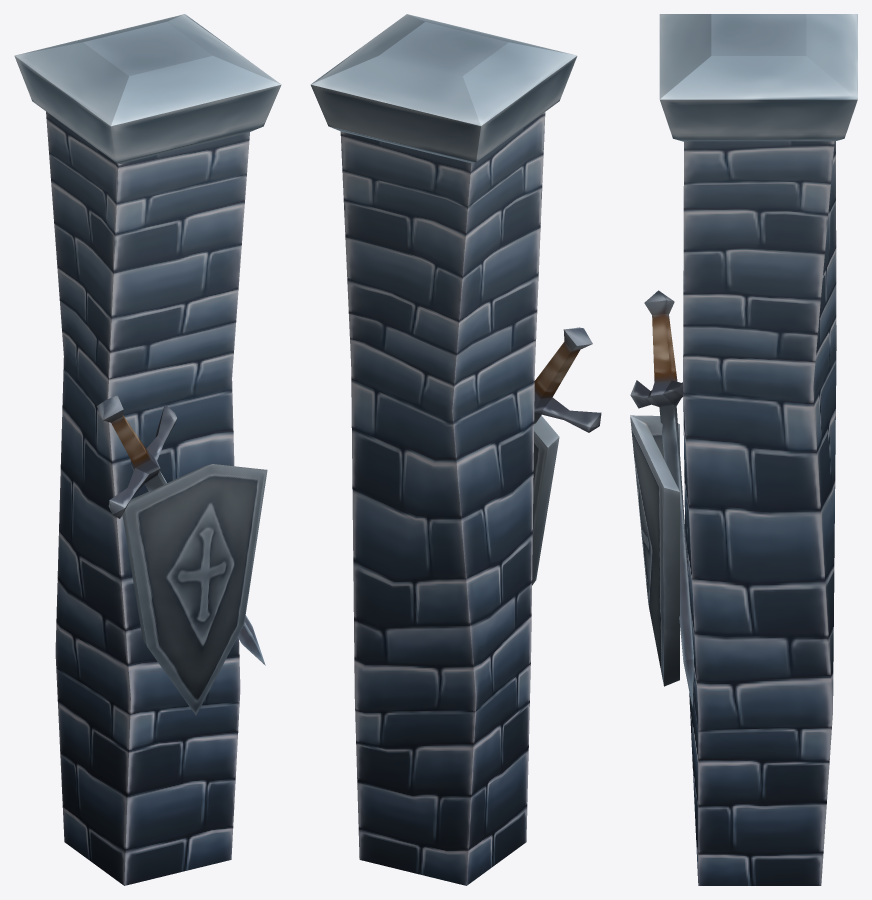
Rendered from Vampire_Village_Props_24.FBX.
3 views of the same model, side by side, from view 1: azimuth 30°, elevation 25°; view 2: azimuth 150°, elevation 25°; view 3: azimuth 270°, elevation 25° (orthographic). The views are drawn at different scales.
Visible parts, largest first — view 1: Vampire_Village_Props_24; view 2: Vampire_Village_Props_24; view 3: Vampire_Village_Props_24.
Boxes of the visible parts, x1,y1,x2,y2 form: Vampire_Village_Props_24: (14, 14, 281, 885); Vampire_Village_Props_24: (310, 14, 601, 885); Vampire_Village_Props_24: (630, 14, 857, 885).
Size of the model in its own units: 96.86 by 404 by 101.
